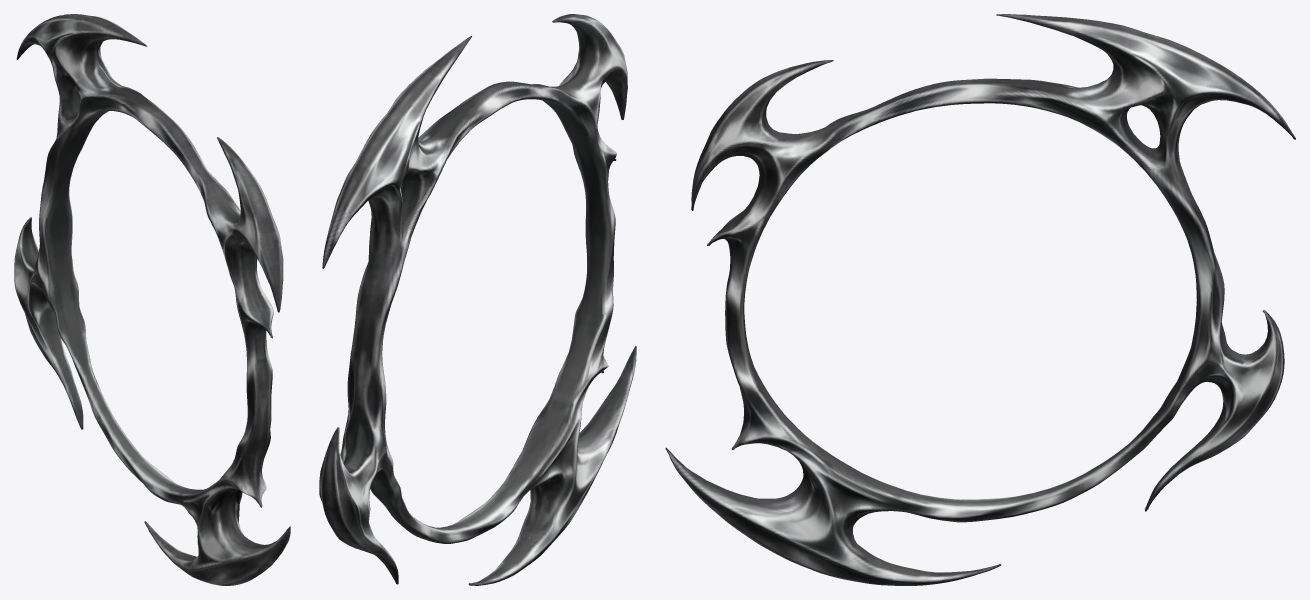
The model's file is toyota-avatar-frame.glb.
The picture shows the model from 3 angles, left to right: view 1: azimuth 30°, elevation 25°; view 2: azimuth 150°, elevation 25°; view 3: azimuth 270°, elevation 25°; orthographic projection. The views are drawn at different scales.
Visible parts, largest first — view 1: tripo_node_947e80eb-defe-46a0-adb2-84ac1189acd8; view 2: tripo_node_947e80eb-defe-46a0-adb2-84ac1189acd8; view 3: tripo_node_947e80eb-defe-46a0-adb2-84ac1189acd8.
Part boxes in pixels (box(x1,y1,x2,y2)): tripo_node_947e80eb-defe-46a0-adb2-84ac1189acd8: box(14, 14, 290, 585); tripo_node_947e80eb-defe-46a0-adb2-84ac1189acd8: box(319, 14, 636, 585); tripo_node_947e80eb-defe-46a0-adb2-84ac1189acd8: box(665, 14, 1295, 585).
Bounding box in the file's own units: 0.0834 × 0.9785 × 0.9805.
Materials: 1 (1 with a texture image).
